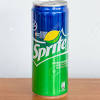sprite_can: (30, 1, 69, 96)
